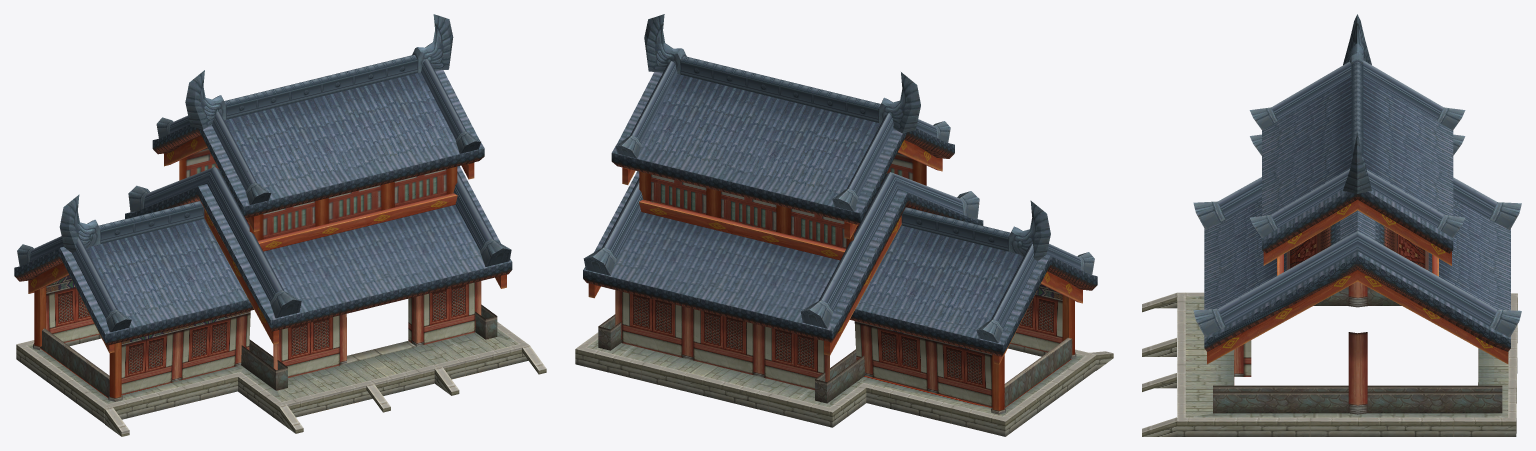
3 views of the same model, side by side, from view 1: azimuth 30°, elevation 25°; view 2: azimuth 150°, elevation 25°; view 3: azimuth 270°, elevation 25° (orthographic). The views are drawn at different scales.
Visible parts, largest first — view 1: gujian_441, gujian_442, gujian_434, gujian_435, gujian_443; view 2: gujian_441, gujian_434, gujian_442, gujian_435, gujian_443; view 3: gujian_441, gujian_442, gujian_434, gujian_443, gujian_435.
Part boxes in pixels (<box>): gujian_441: <box>14,70,512,345</box>; gujian_442: <box>16,135,546,436</box>; gujian_434: <box>17,14,511,332</box>; gujian_435: <box>46,275,481,394</box>; gujian_443: <box>33,148,497,401</box>; gujian_441: <box>583,72,1097,356</box>; gujian_434: <box>583,14,1094,342</box>; gujian_442: <box>575,140,1113,436</box>; gujian_435: <box>615,284,1062,407</box>; gujian_443: <box>598,152,1076,414</box>; gujian_441: <box>1204,76,1510,351</box>; gujian_442: <box>1142,199,1517,436</box>; gujian_434: <box>1193,14,1521,337</box>; gujian_443: <box>1213,286,1502,413</box>; gujian_435: <box>1234,281,1367,414</box>.
Bounding box in the file's own units: 1.64 × 1.14 × 1.3.
5 materials, 5 textured.
